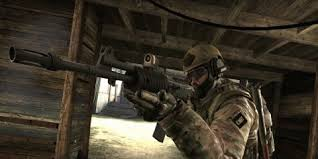gun: (6, 43, 202, 143)
